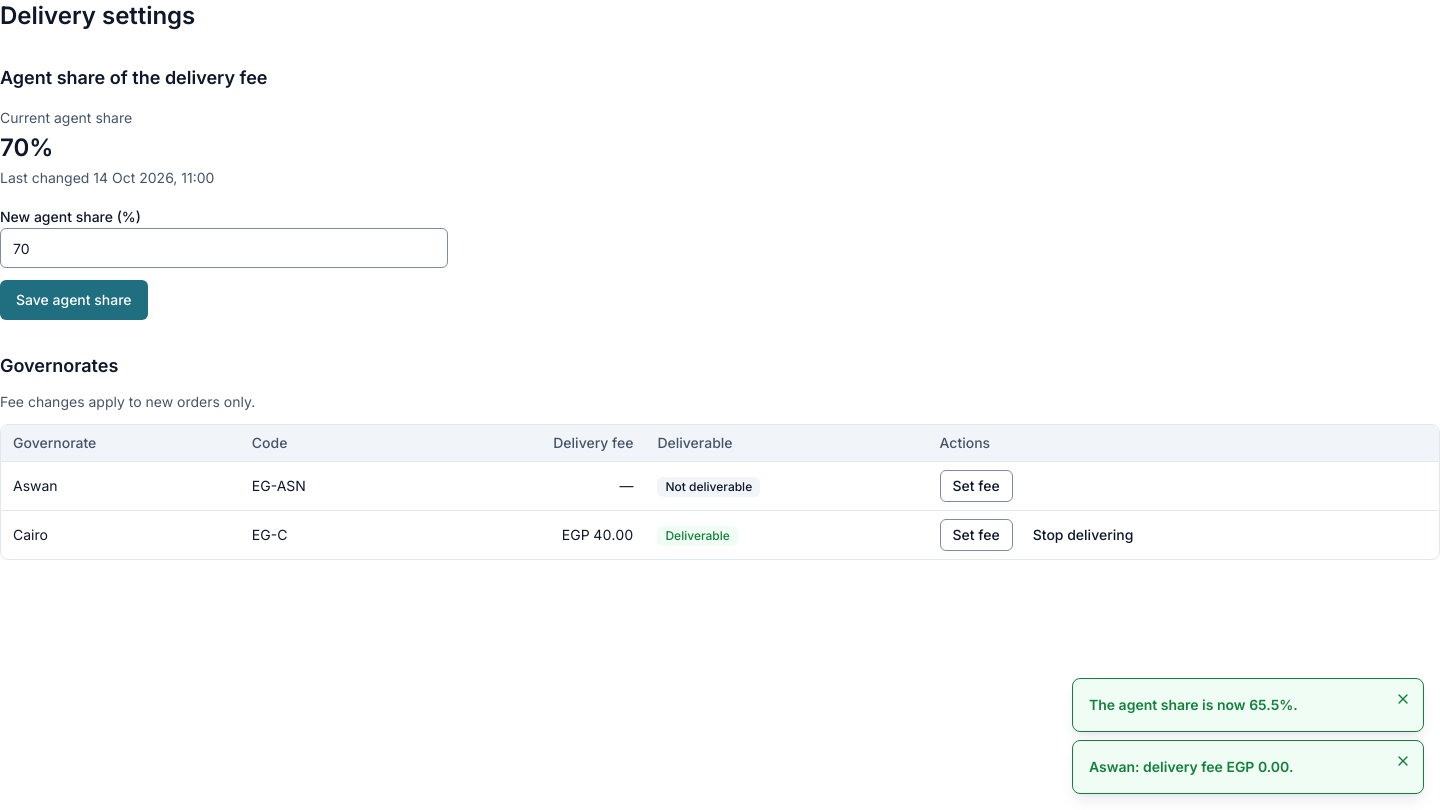
Test: delivery settings (spec 03 AD-08) › "Stop delivering" confirms and sends deliveryFee: null
The width and height of the screenshot is (1440, 810).
Step 1. Click the button with aria-label "Stop delivering to Cairo" → {"x": 1083, "y": 535}, box [1021,519,1145,551]
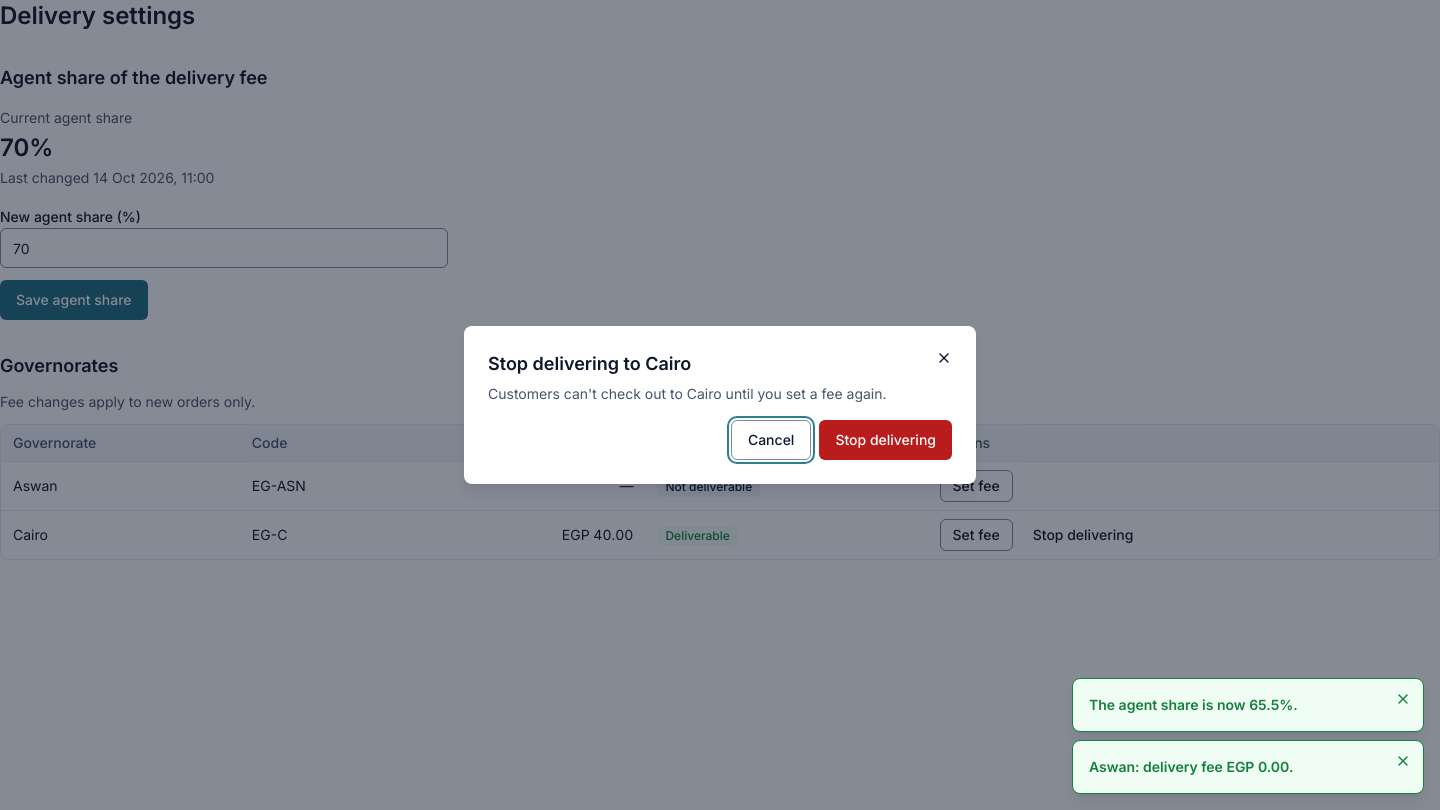
Expected: the text "Customers can't check out to Cairo until you set a fee again." is shown, [488,384,920,404]
Step 2. Click the button "Stop delivering" → {"x": 886, "y": 440}, box [819,420,952,460]
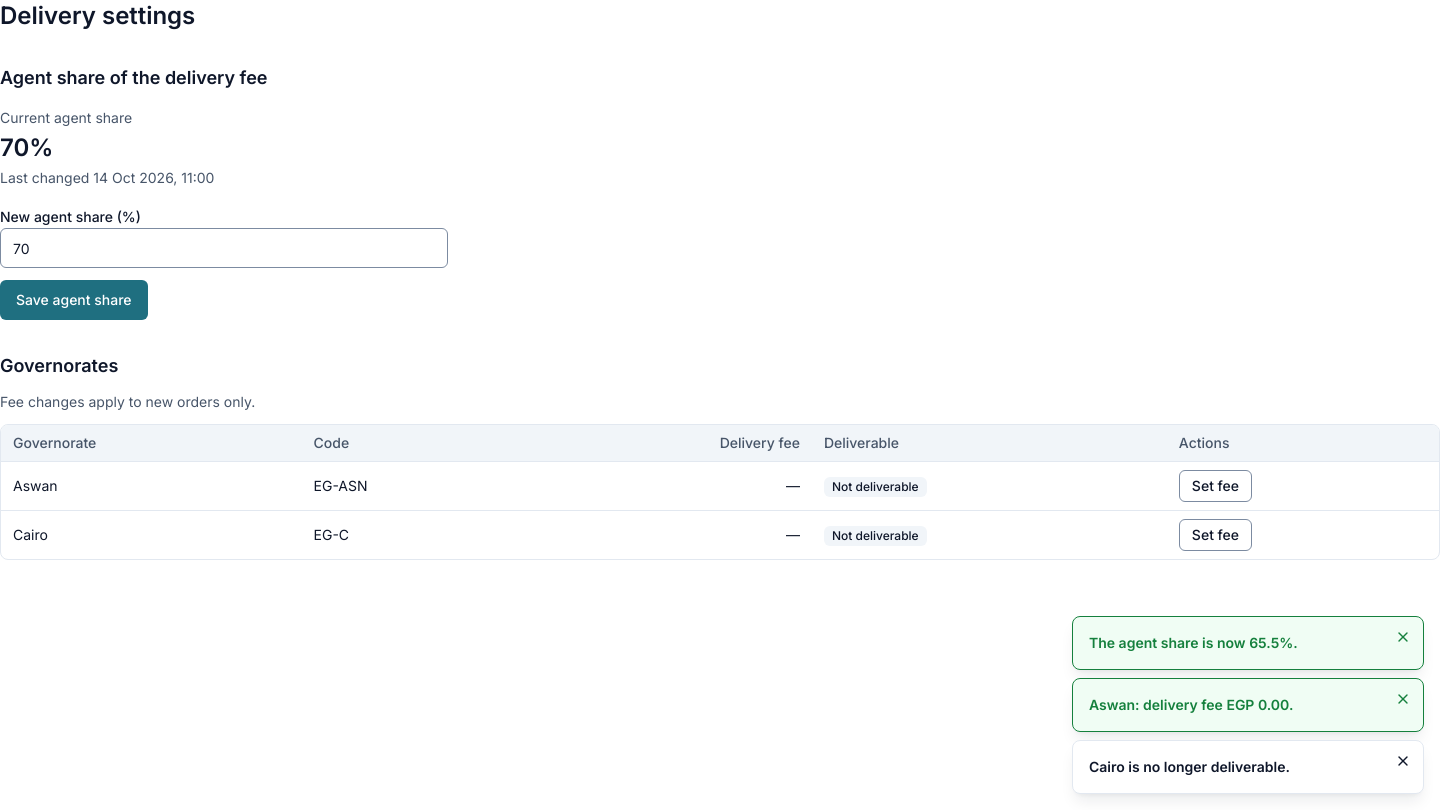
Expected: the text "Cairo is no longer deliverable." is shown, [1089,758,1290,775]
Expected: the heading "Stop delivering to Cairo" is gone
